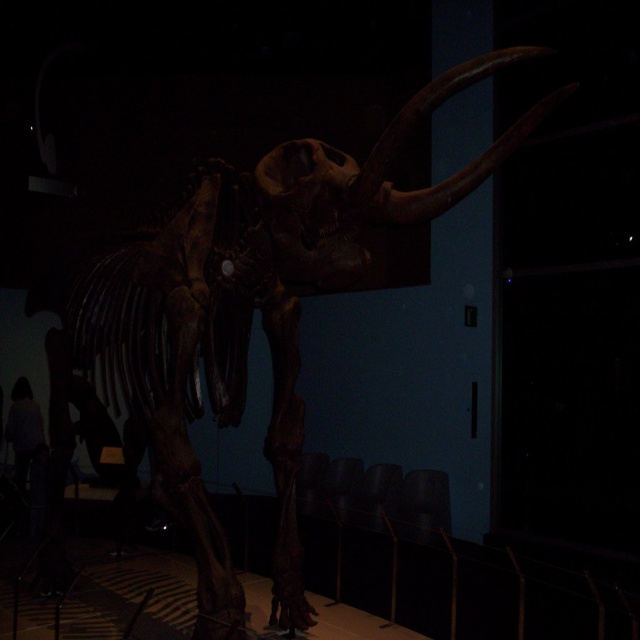Elephant: (48, 45, 549, 639)
